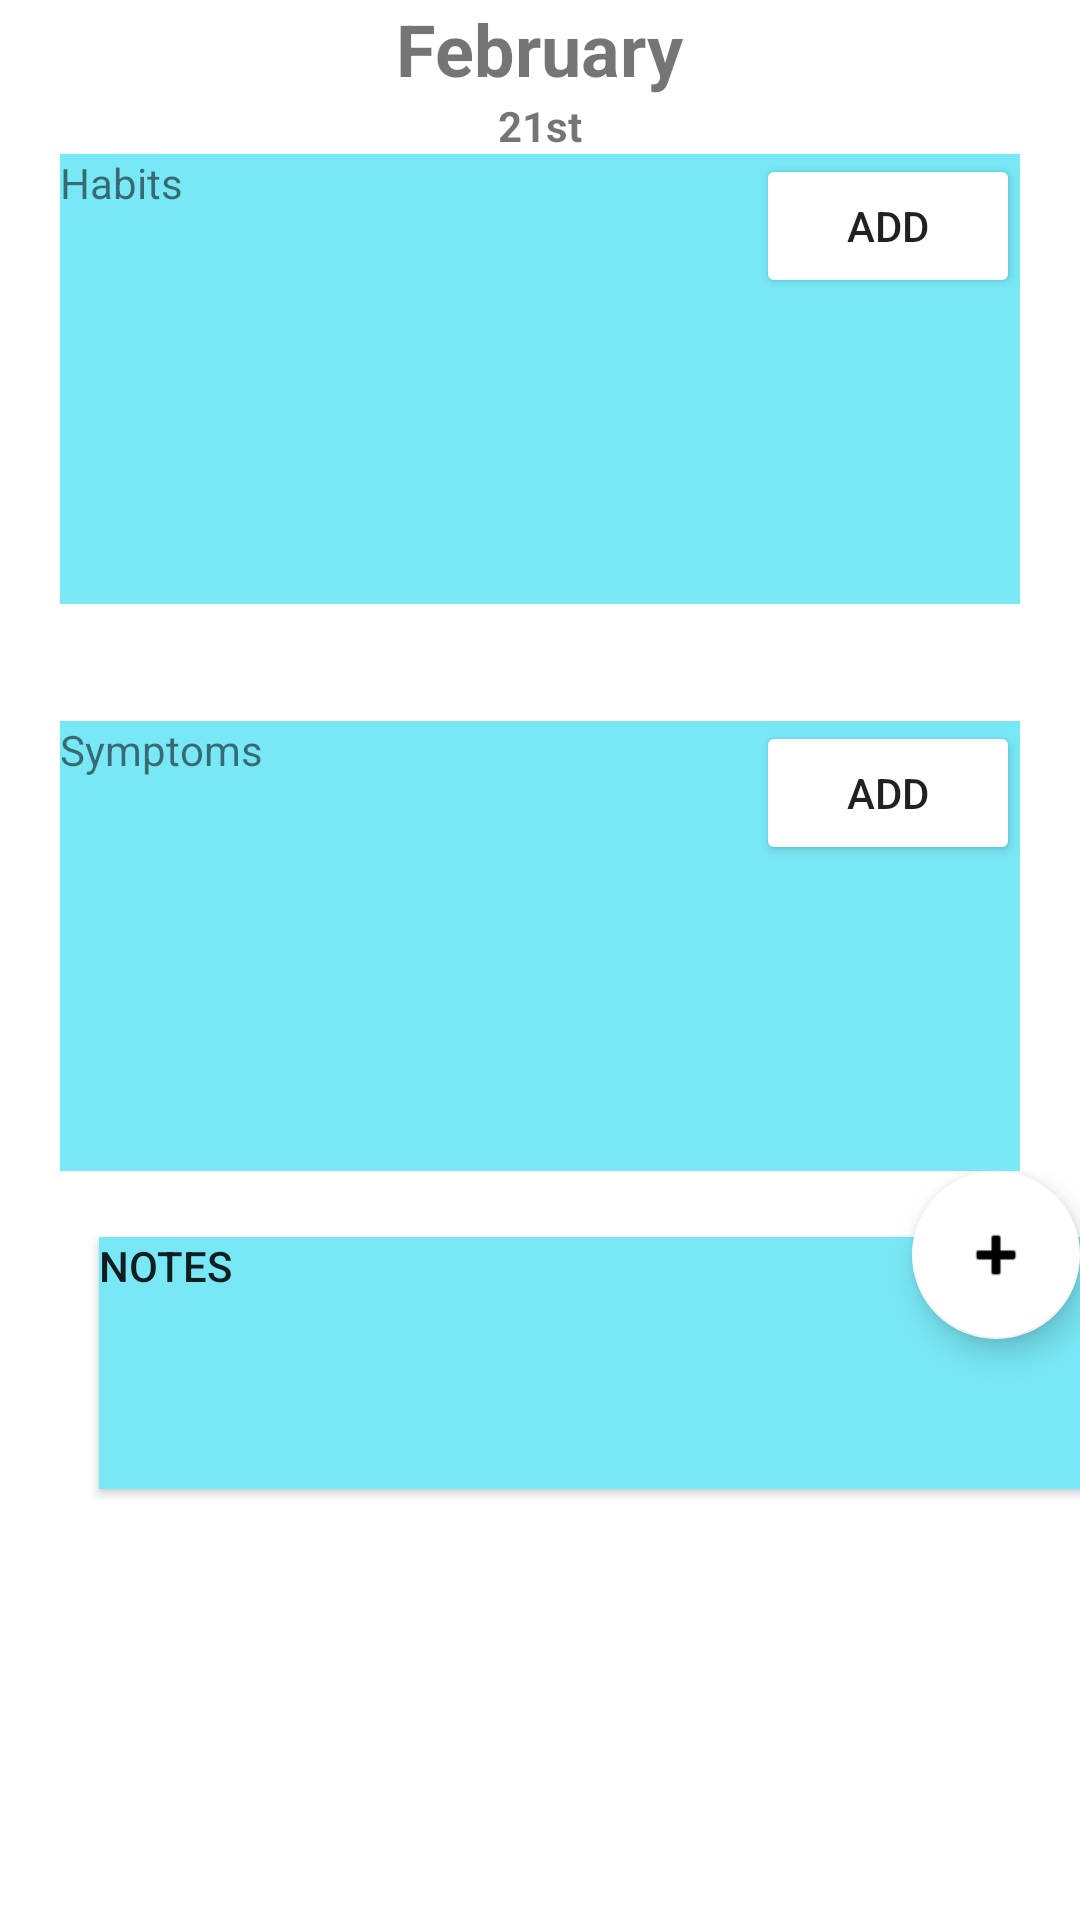

Screen size 1080px x 1920px. Icon name, then its center in pixels as (x,y):
add: (996,1255)
